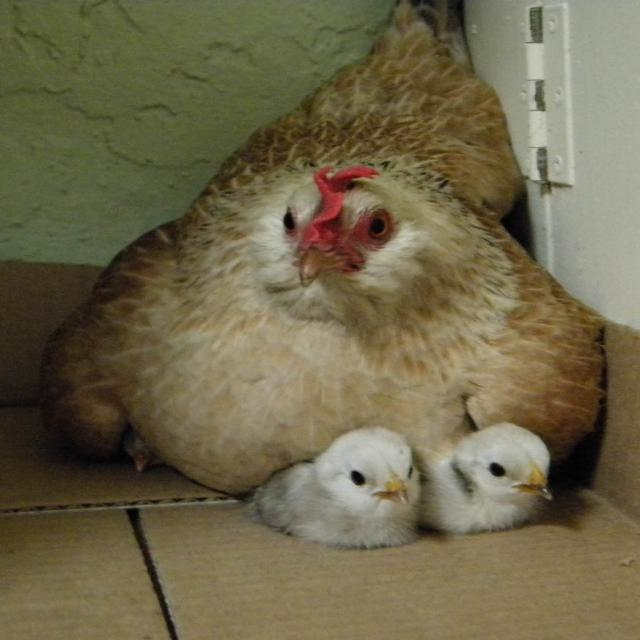Chicken: (28, 4, 607, 496), (240, 424, 422, 548), (418, 420, 552, 536)
